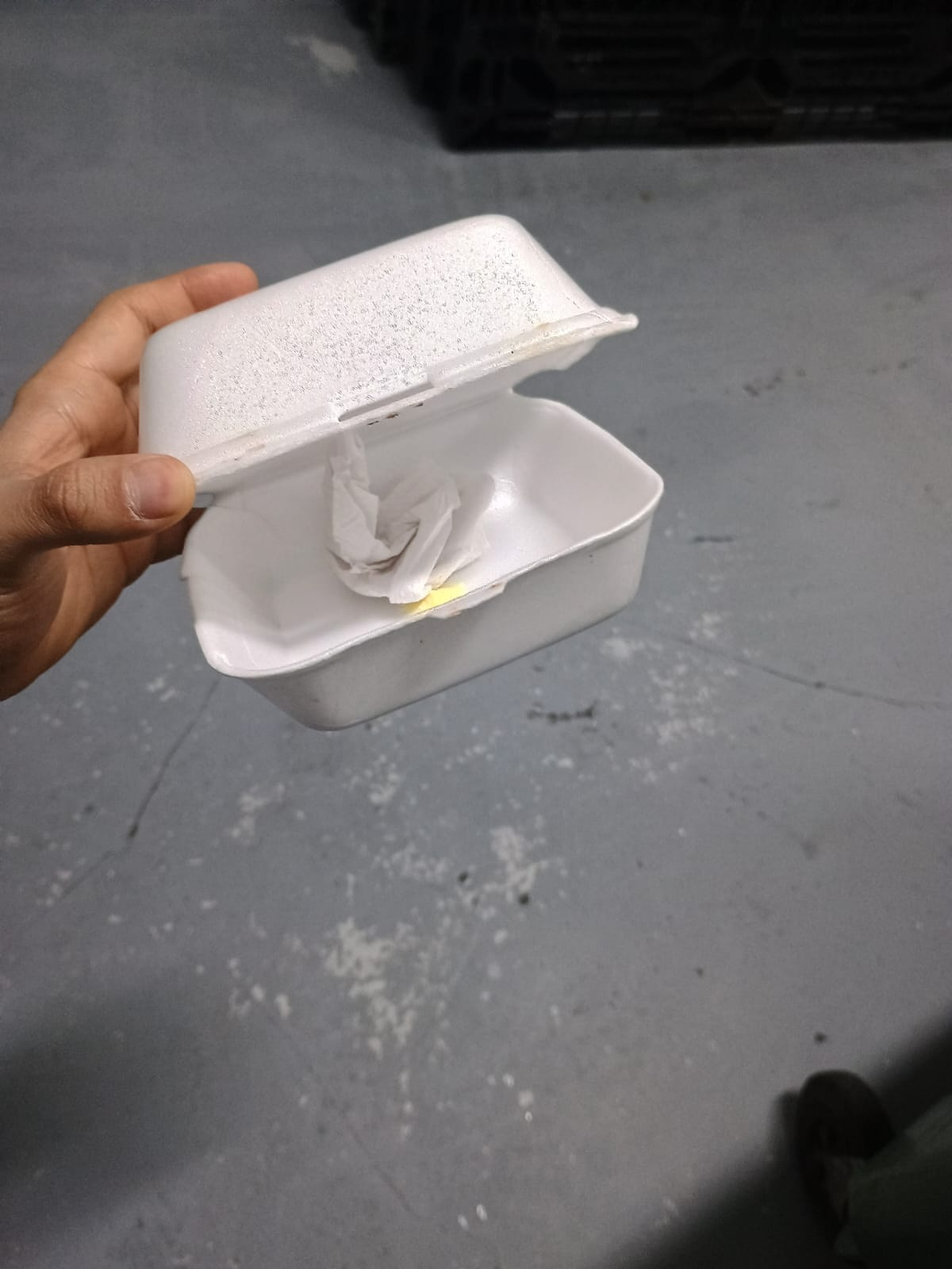Ordinario: (140, 214, 667, 731)
